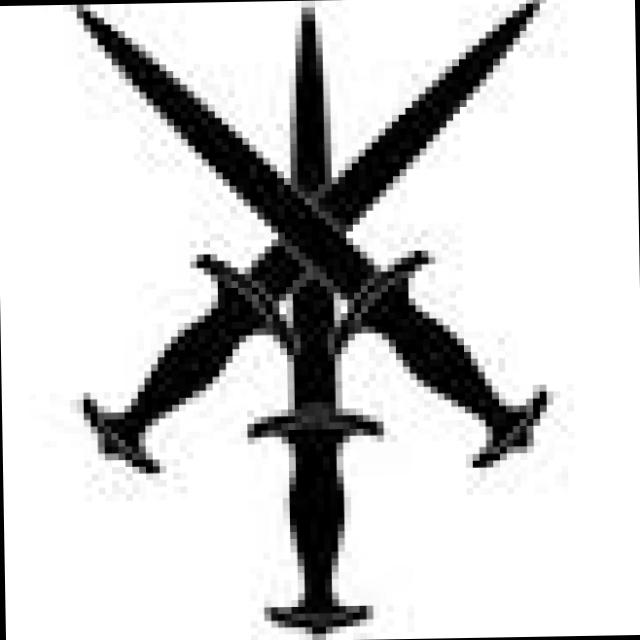Gun: (219, 0, 387, 640)
